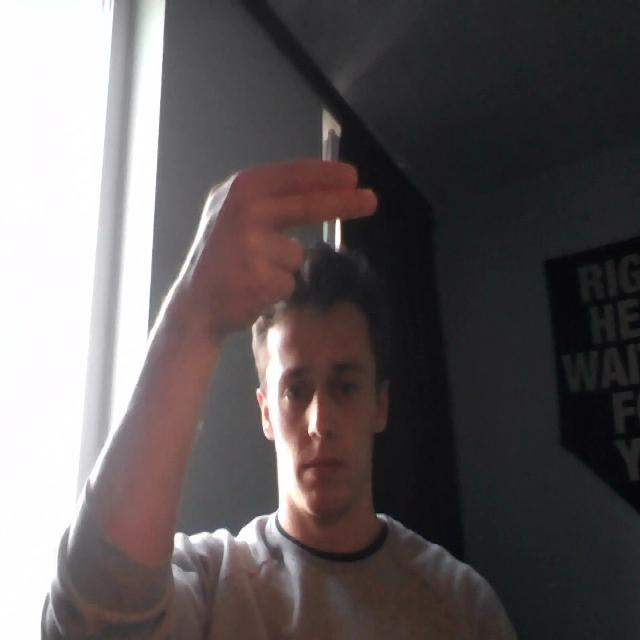right: (174, 151, 401, 359)
